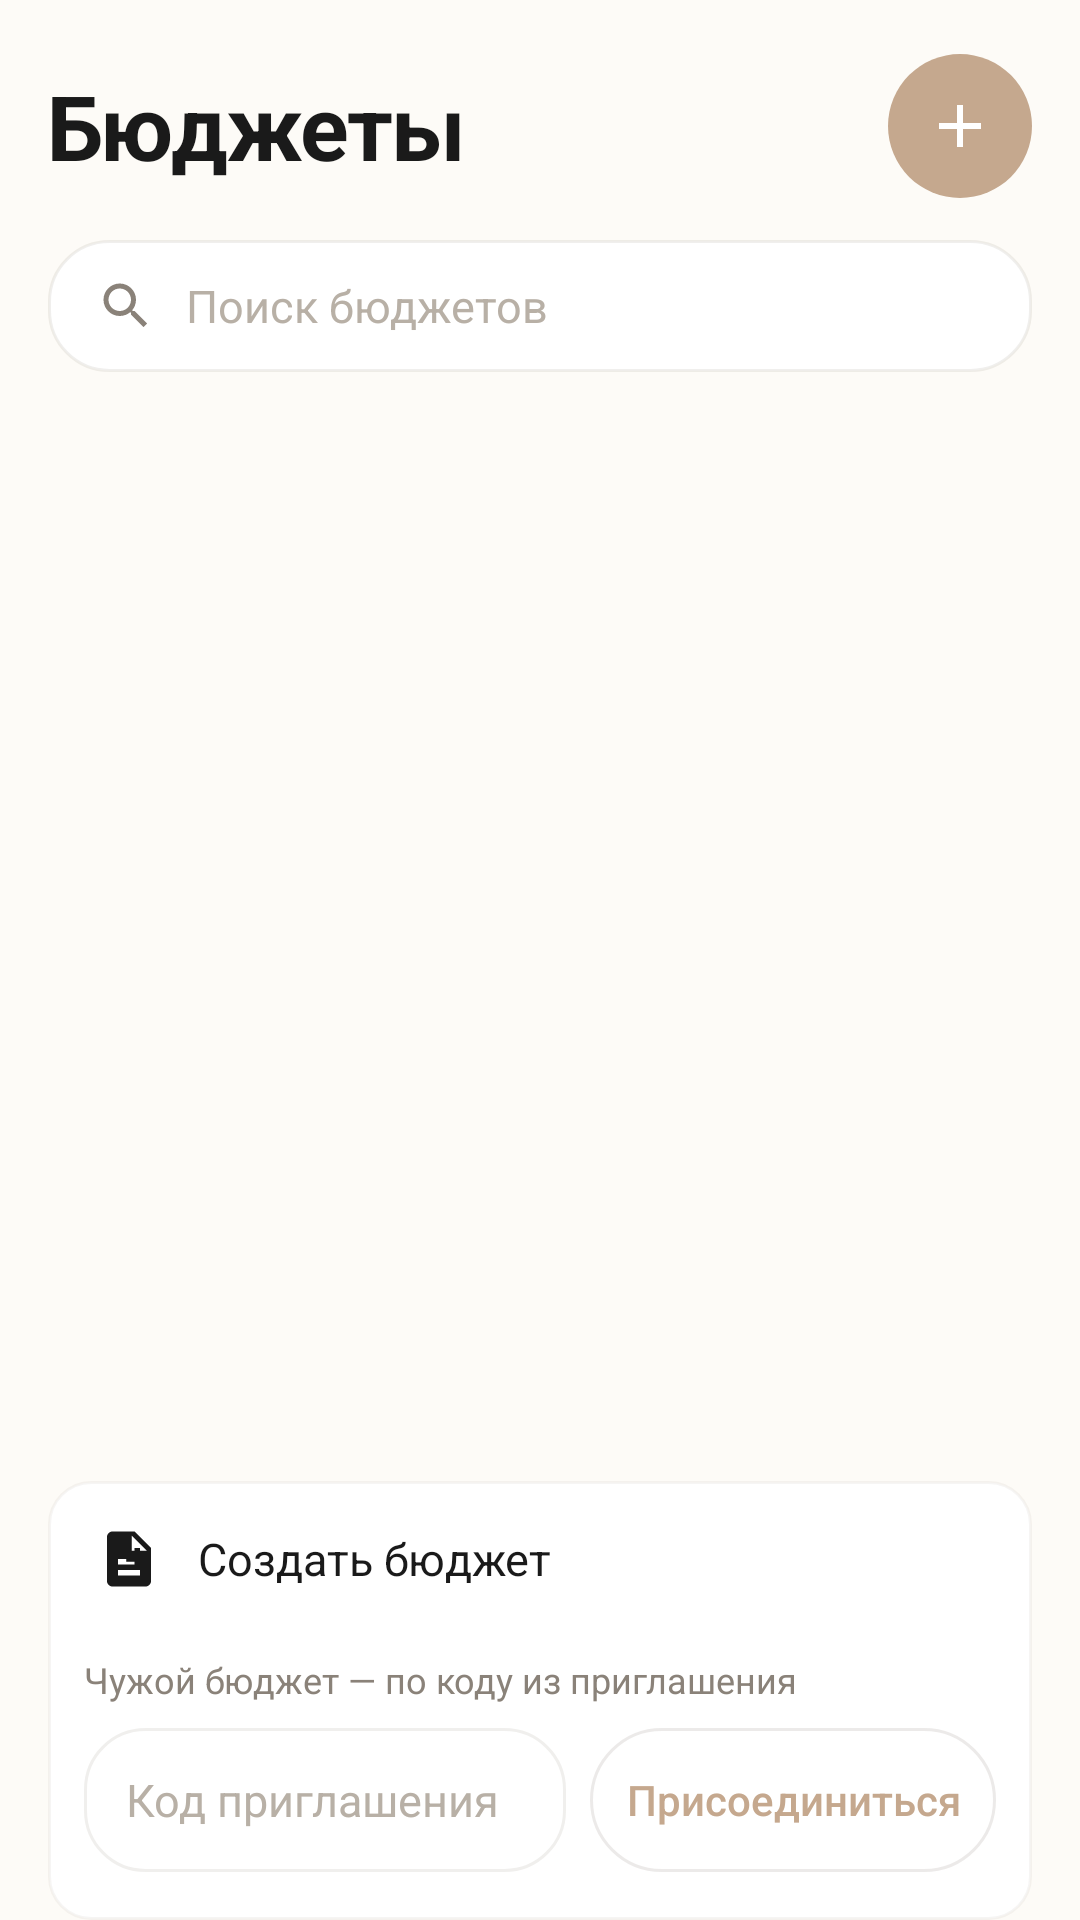

Icons on this 1080×1920 Android screen, each with the point to tap as [x,y]:
Добавить бюджет: [960,126]
